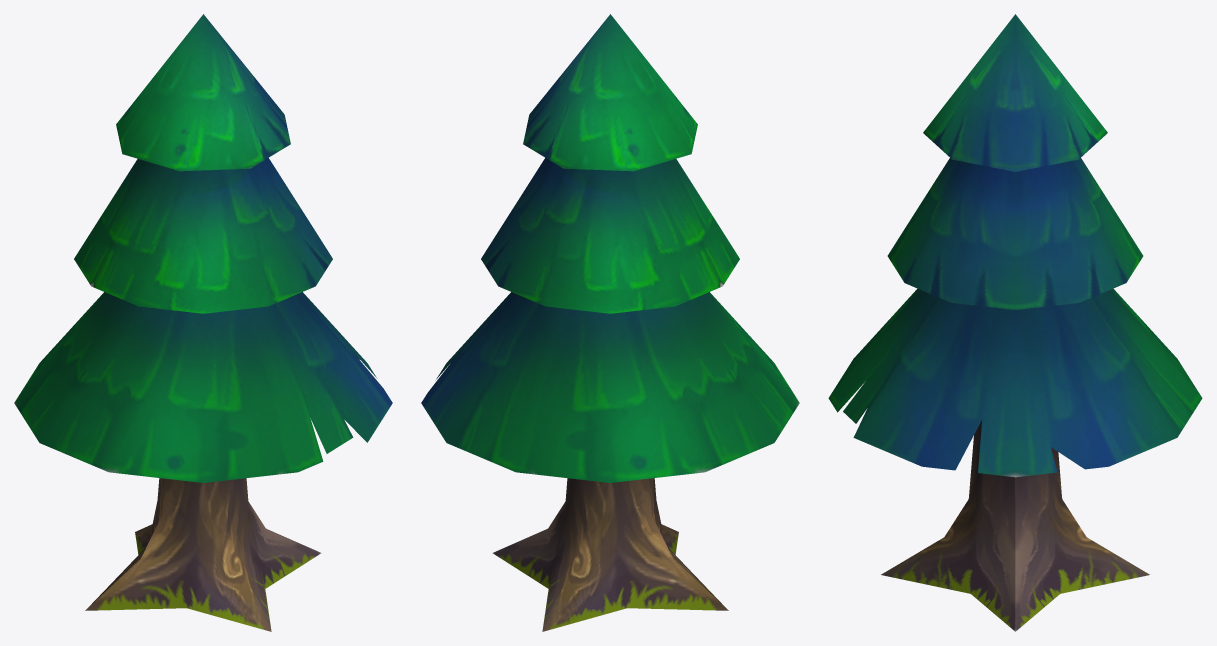
File: scenes_construction_tree01b.FBX
3 views of the same model, side by side, from view 1: azimuth 30°, elevation 25°; view 2: azimuth 150°, elevation 25°; view 3: azimuth 270°, elevation 25° (orthographic).
Visible parts, largest first — view 1: scenes_construction_tree01b; view 2: scenes_construction_tree01b; view 3: scenes_construction_tree01b.
Part boxes in pixels (box(x1,y1,x2,y2)): scenes_construction_tree01b: box(14, 14, 392, 631); scenes_construction_tree01b: box(421, 14, 799, 631); scenes_construction_tree01b: box(828, 14, 1202, 631).
Size of the model in its own units: 857 by 1418 by 857.
